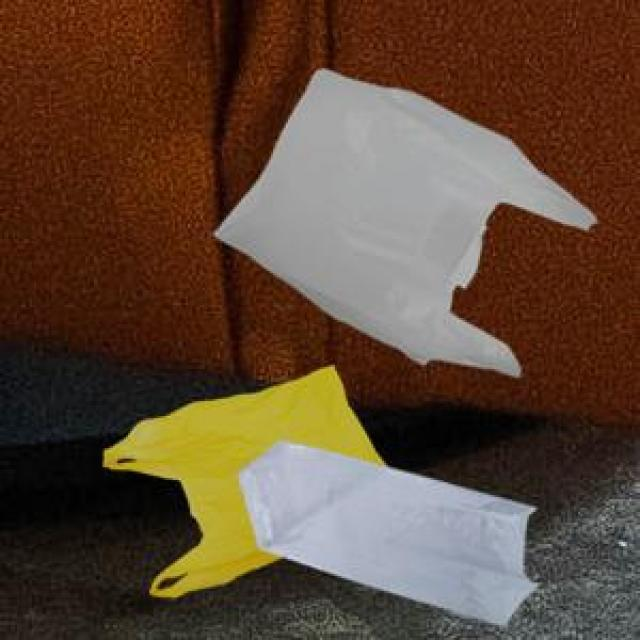Single-layer Plastic: (215, 69, 595, 376), (102, 366, 382, 598), (240, 442, 535, 624)
